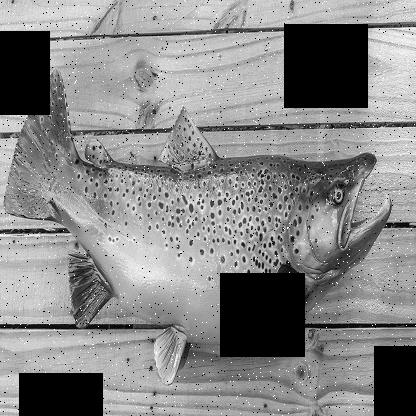fish: (2, 68, 393, 386)
